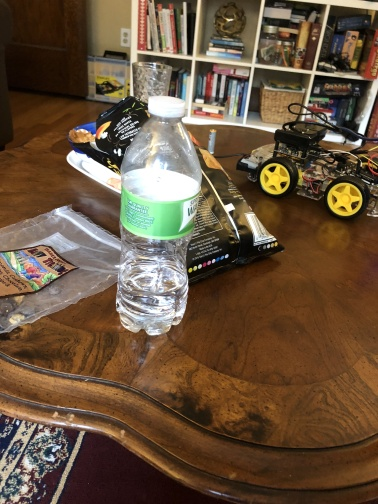battery: (195, 121, 231, 158)
bottle: (110, 93, 205, 337)
